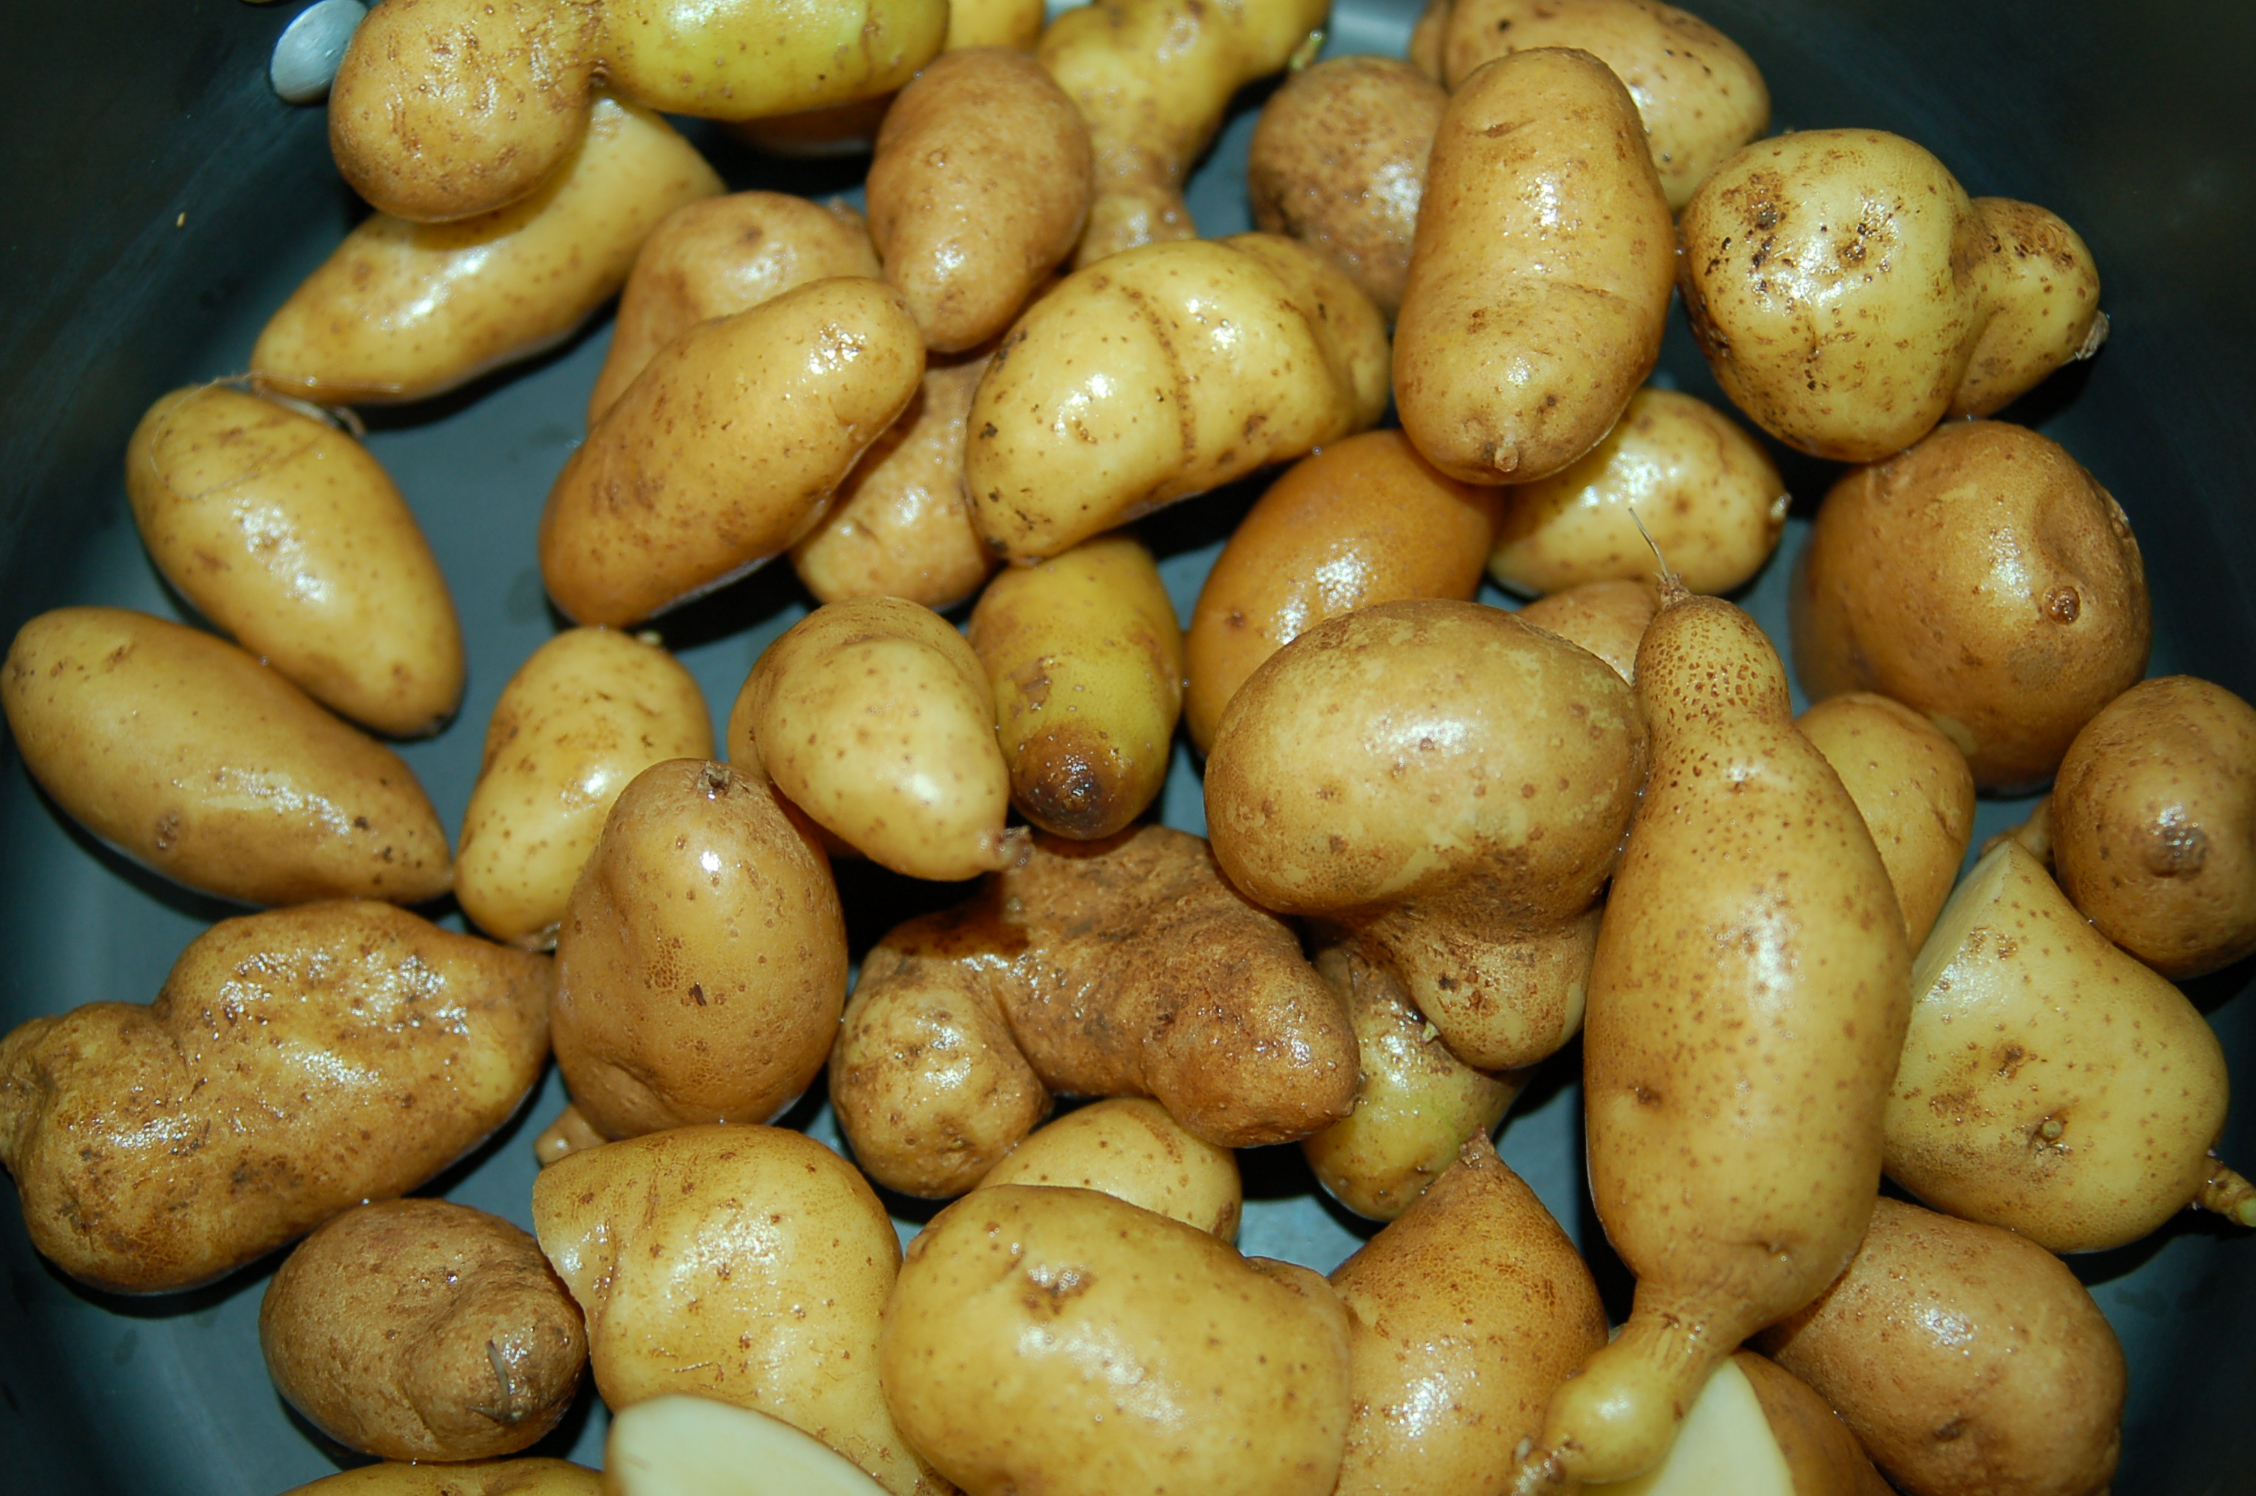boiled potatoes: (281, 88, 2021, 1366)
